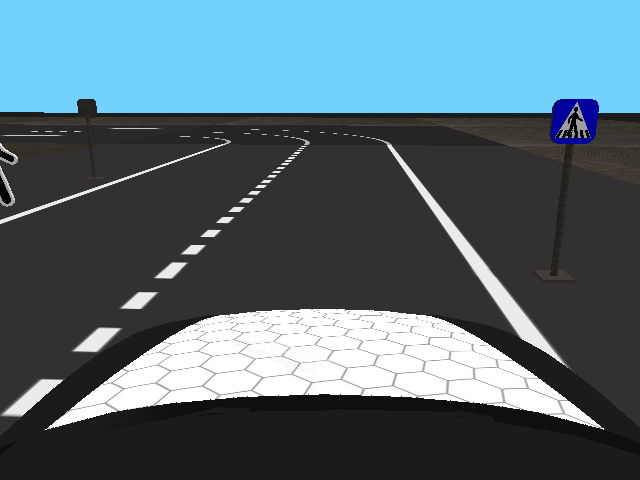pedestrian_cross: (550, 99, 599, 145)
